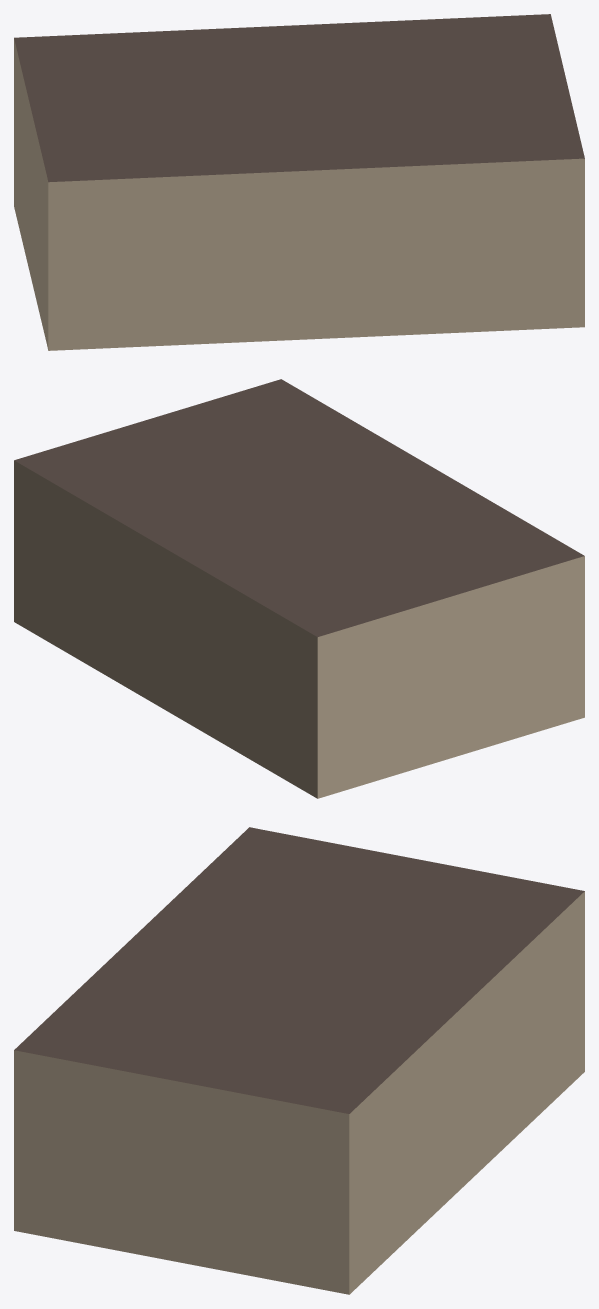
3 views of the same model, one above another, from view 1: azimuth 30°, elevation 25°; view 2: azimuth 150°, elevation 25°; view 3: azimuth 270°, elevation 25° (orthographic). The views are drawn at different scales.
Parts seen in each view (by area): view 1: HP-w859082562; view 2: HP-w859082562; view 3: HP-w859082562.
Boxes of the visible parts, bbox=[...] form: HP-w859082562: bbox=[14, 14, 584, 350]; HP-w859082562: bbox=[14, 379, 584, 798]; HP-w859082562: bbox=[14, 827, 584, 1294].
Bounding box in the file's own units: 30.66 × 9 × 25.78.
